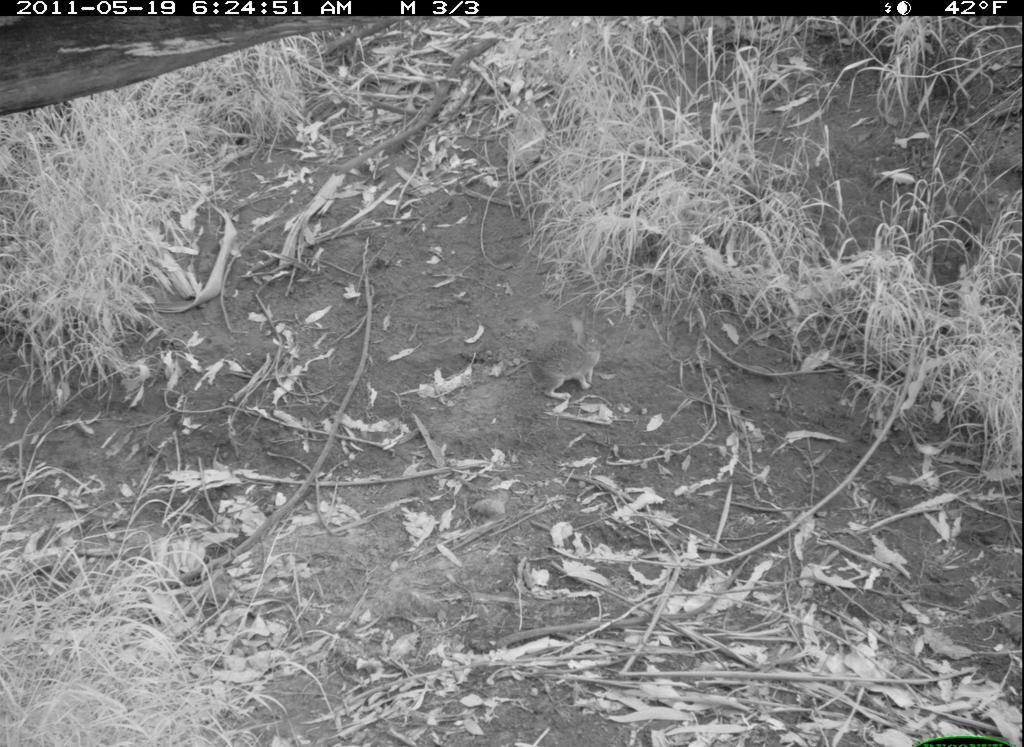rabbit: (511, 308, 615, 417)
